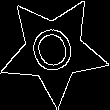O_S: (25, 19, 82, 82)
